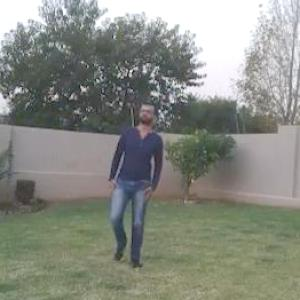follow: (105, 95, 165, 267)
